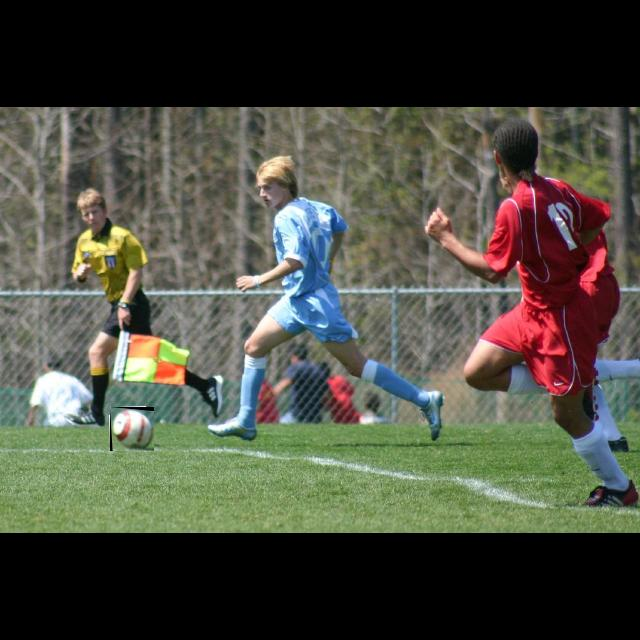Football: (110, 407, 154, 451)
